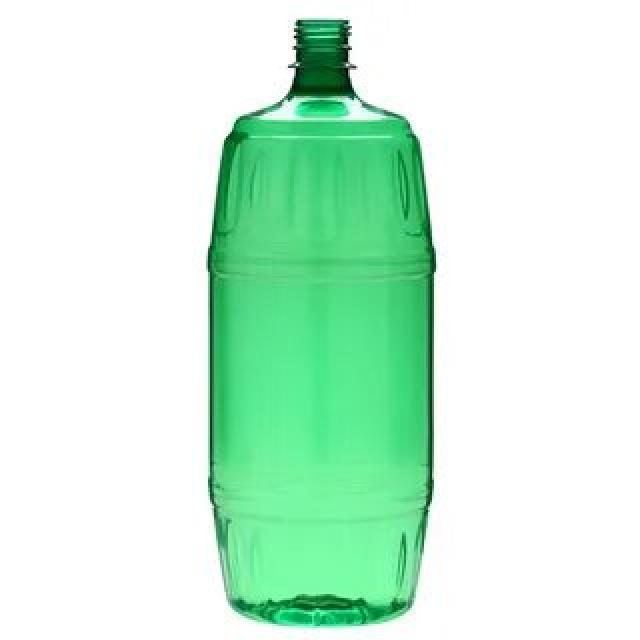green: (200, 23, 433, 630)
